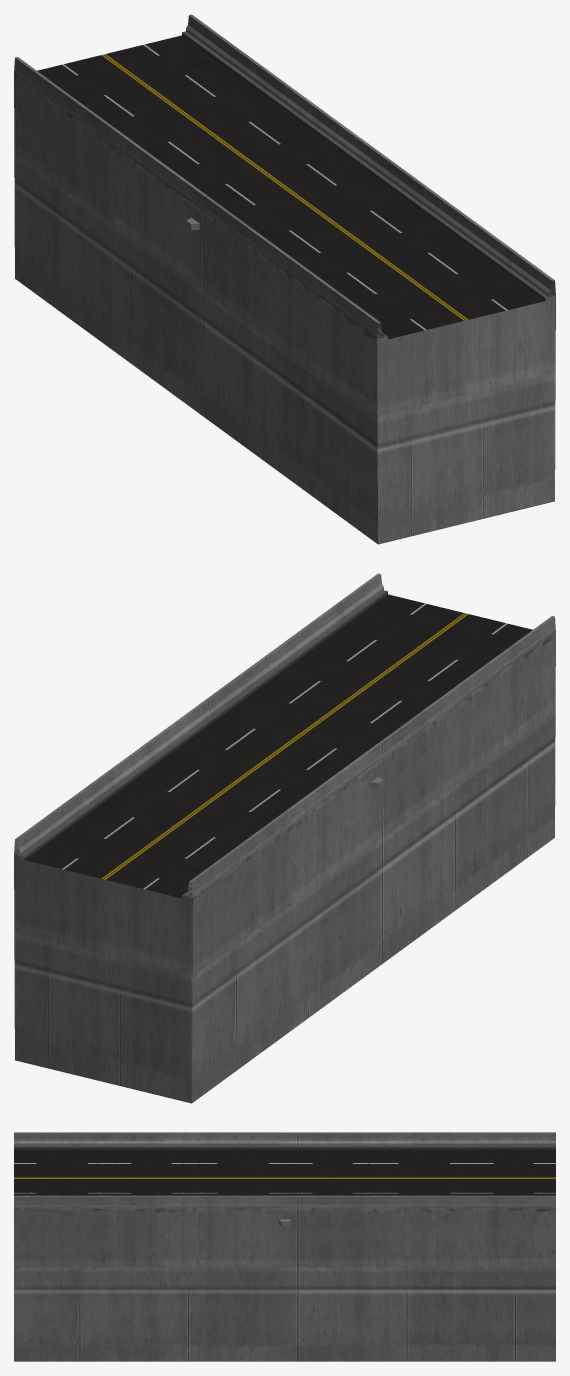
Rendered from RJs_Road Slim 2+2 Elevated Segment.fbx.
3 renders of one model, top to bottom at view 1: azimuth 30°, elevation 25°; view 2: azimuth 150°, elevation 25°; view 3: azimuth 270°, elevation 25°, orthographic. The views are drawn at different scales.
Parts seen in each view (by area): view 1: plane; view 2: plane; view 3: plane.
Boxes of the visible parts, left/top/right/bottom form: plane: left=14, top=14, right=555, bottom=544; plane: left=14, top=573, right=555, bottom=1103; plane: left=14, top=1132, right=555, bottom=1361.
Bounding box in the file's own units: 1960 × 2150 × 6400.
